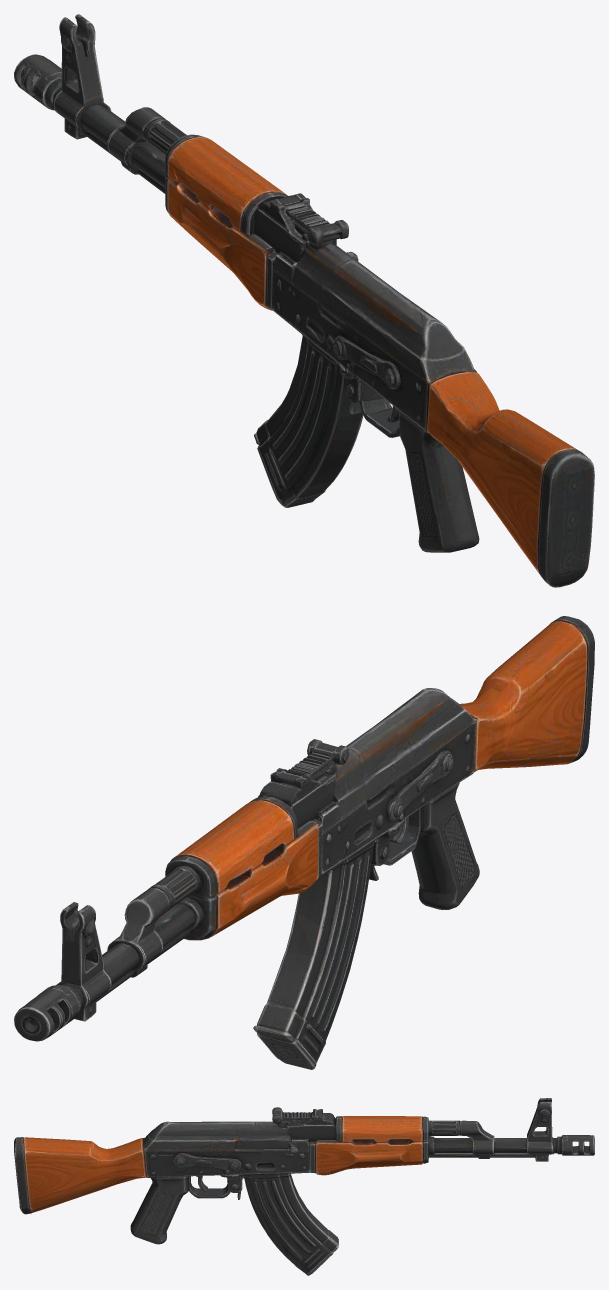
File: gewehr.glb
3 renders of one model, top to bottom at view 1: azimuth 30°, elevation 25°; view 2: azimuth 150°, elevation 25°; view 3: azimuth 270°, elevation 25°, orthographic. The views are drawn at different scales.
Parts seen in each view (by area): view 1: waffe_gewehr; view 2: waffe_gewehr; view 3: waffe_gewehr.
Part boxes in pixels (x1,y1,x2,y2): waffe_gewehr: (14, 14, 594, 587); waffe_gewehr: (14, 616, 594, 1069); waffe_gewehr: (14, 1098, 594, 1275).
Size of the model in its own units: 0.0701 by 0.2817 by 0.86.
Materials: 1 (1 with a texture image).
